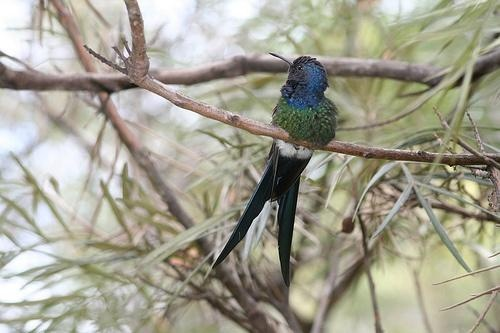bird: (206, 51, 338, 291)
